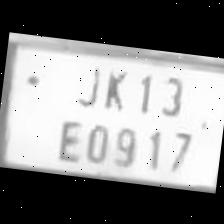0: (79, 116, 112, 164)
1: (127, 64, 158, 114), (138, 120, 167, 170)
3: (153, 67, 187, 119)
7: (160, 122, 194, 174)
9: (107, 120, 139, 168)
E: (50, 110, 84, 163)
J: (72, 57, 103, 109)
K: (97, 61, 131, 111)
